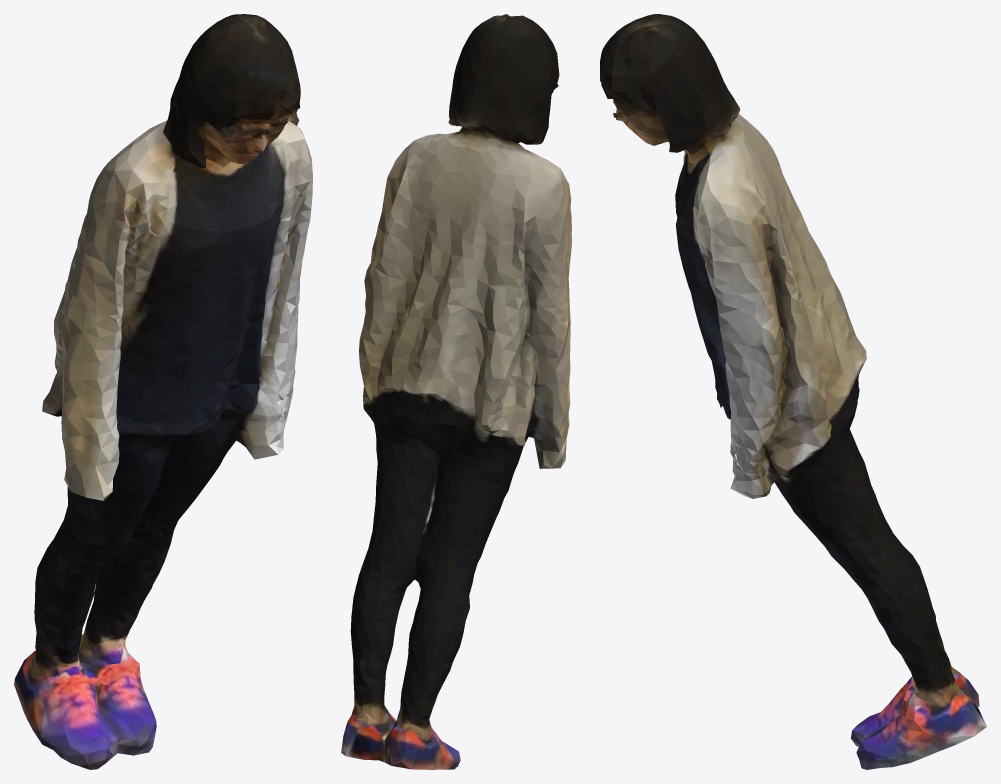
3 views of the same model, side by side, from view 1: azimuth 30°, elevation 25°; view 2: azimuth 150°, elevation 25°; view 3: azimuth 270°, elevation 25° (orthographic). The views are drawn at different scales.
Parts seen in each view (by area): view 1: m.obj; view 2: m.obj; view 3: m.obj.
Part boxes in pixels (left/top/right/bottom): m.obj: left=14, top=14, right=312, bottom=769; m.obj: left=341, top=14, right=571, bottom=769; m.obj: left=600, top=14, right=986, bottom=769.
Bounding box in the file's own units: 0.4515 × 1.49 × 0.7019.
1 material, 1 textured.
